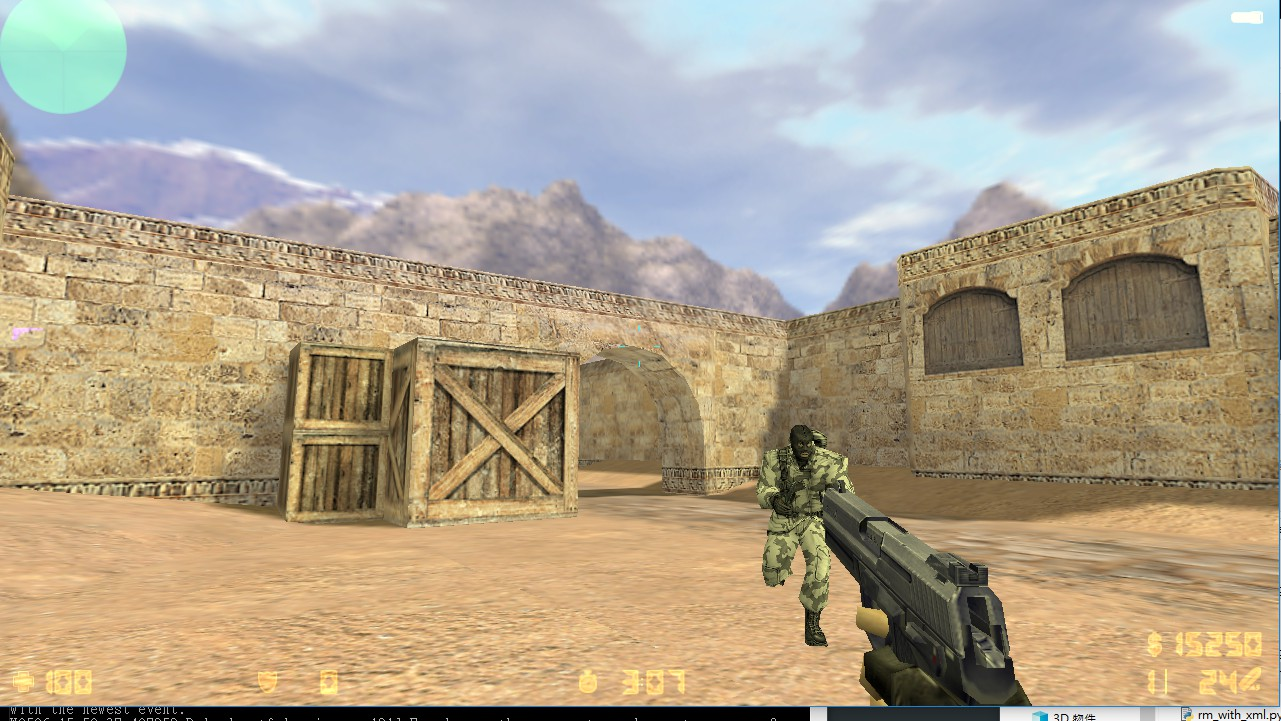person: (746, 418, 854, 661)
